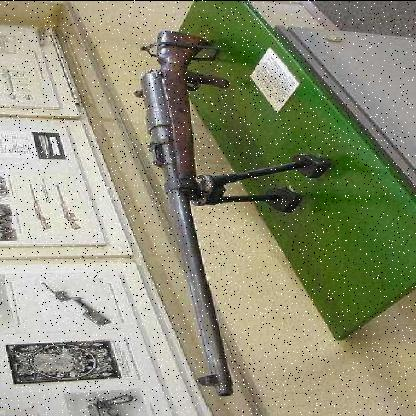rifle: (86, 22, 284, 403)
